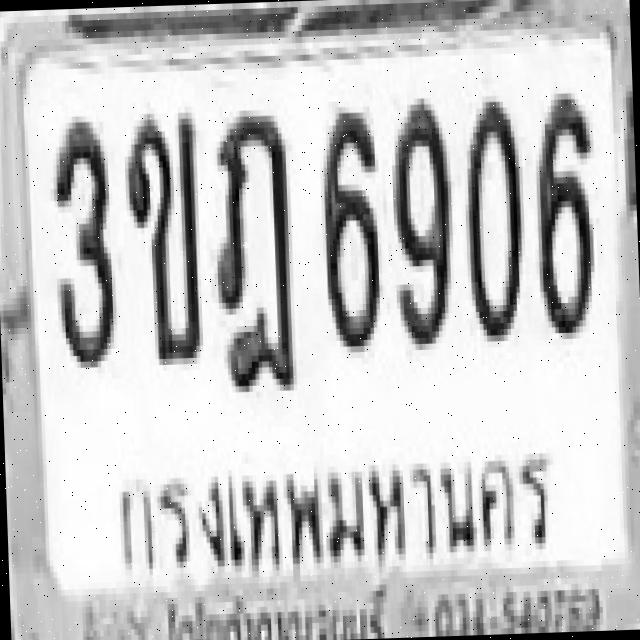0: (462, 95, 524, 336)
11KhorKhai: (123, 113, 200, 360)
23DorChaDa: (207, 108, 295, 386)
3: (46, 118, 116, 366)
6: (530, 92, 596, 334), (318, 106, 381, 347)
9: (389, 98, 453, 344)
Bangkok: (104, 433, 566, 591)
